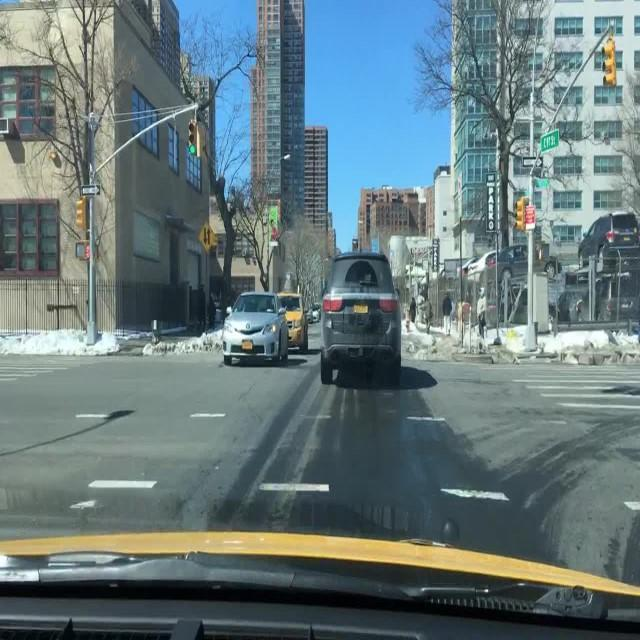normal: (212, 233, 446, 416)
